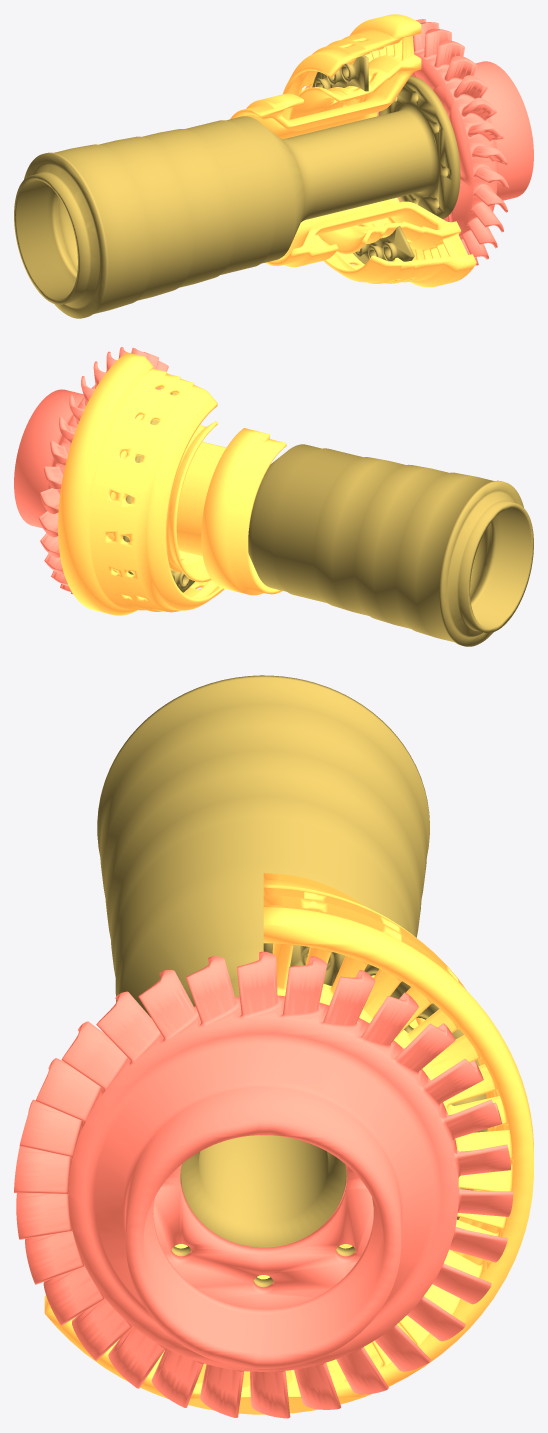
File: L3_hpt_combustor.glb
3 renders of one model, top to bottom at view 1: azimuth 30°, elevation 25°; view 2: azimuth 150°, elevation 25°; view 3: azimuth 270°, elevation 25°, orthographic. The views are drawn at different scales.
Parts seen in each view (by area): view 1: L3_N2_HPC_Drum_Spool, L3_Annular_Combustor_Liner, L3_Single_Stage_HPT_Rotor, L3_Swirl_Dome_Plate; view 2: L3_N2_HPC_Drum_Spool, L3_Annular_Combustor_Liner, L3_Single_Stage_HPT_Rotor, L3_Swirl_Dome_Plate; view 3: L3_Single_Stage_HPT_Rotor, L3_N2_HPC_Drum_Spool, L3_Annular_Combustor_Liner, L3_Swirl_Dome_Plate.
Part boxes in pixels (box(x1,y1,x2,y2)): L3_N2_HPC_Drum_Spool: box(14, 76, 460, 318); L3_Annular_Combustor_Liner: box(230, 14, 476, 287); L3_Single_Stage_HPT_Rotor: box(377, 19, 533, 265); L3_Swirl_Dome_Plate: box(312, 55, 414, 264); L3_N2_HPC_Drum_Spool: box(248, 444, 533, 646); L3_Annular_Combustor_Liner: box(58, 352, 286, 615); L3_Single_Stage_HPT_Rotor: box(14, 347, 168, 594); L3_Swirl_Dome_Plate: box(123, 393, 194, 592); L3_Single_Stage_HPT_Rotor: box(14, 951, 513, 1418); L3_N2_HPC_Drum_Spool: box(97, 675, 429, 1287); L3_Annular_Combustor_Liner: box(44, 873, 533, 1414); L3_Swirl_Dome_Plate: box(263, 943, 487, 1219).
Bounding box in the file's own units: 1.5 × 0.7901 × 0.7595.
